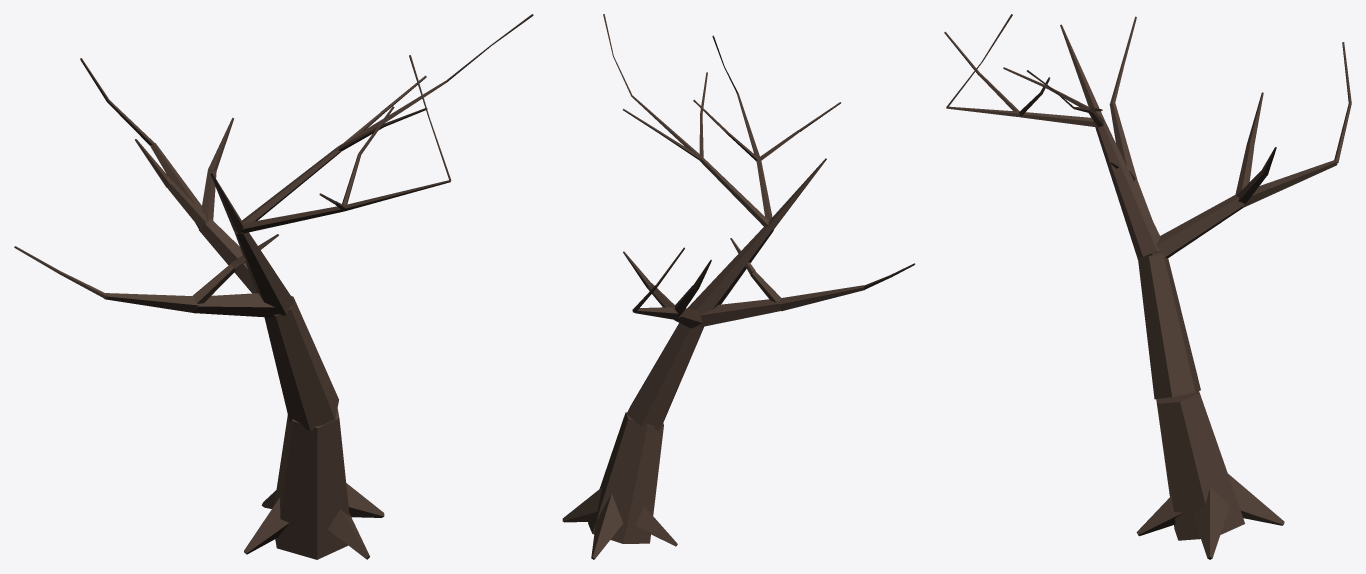
File: sample_tree.fbx
3 renders of one model, left to right at view 1: azimuth 30°, elevation 25°; view 2: azimuth 150°, elevation 25°; view 3: azimuth 270°, elevation 25°, orthographic. The views are drawn at different scales.
Visible parts, largest first — view 1: Tree; view 2: Tree; view 3: Tree.
Boxes of the visible parts, box(x1,y1,x2,y2) form: Tree: box(14, 14, 533, 559); Tree: box(562, 14, 915, 559); Tree: box(944, 14, 1351, 559).
Size of the model in its own units: 9.28 by 11.05 by 7.87.
